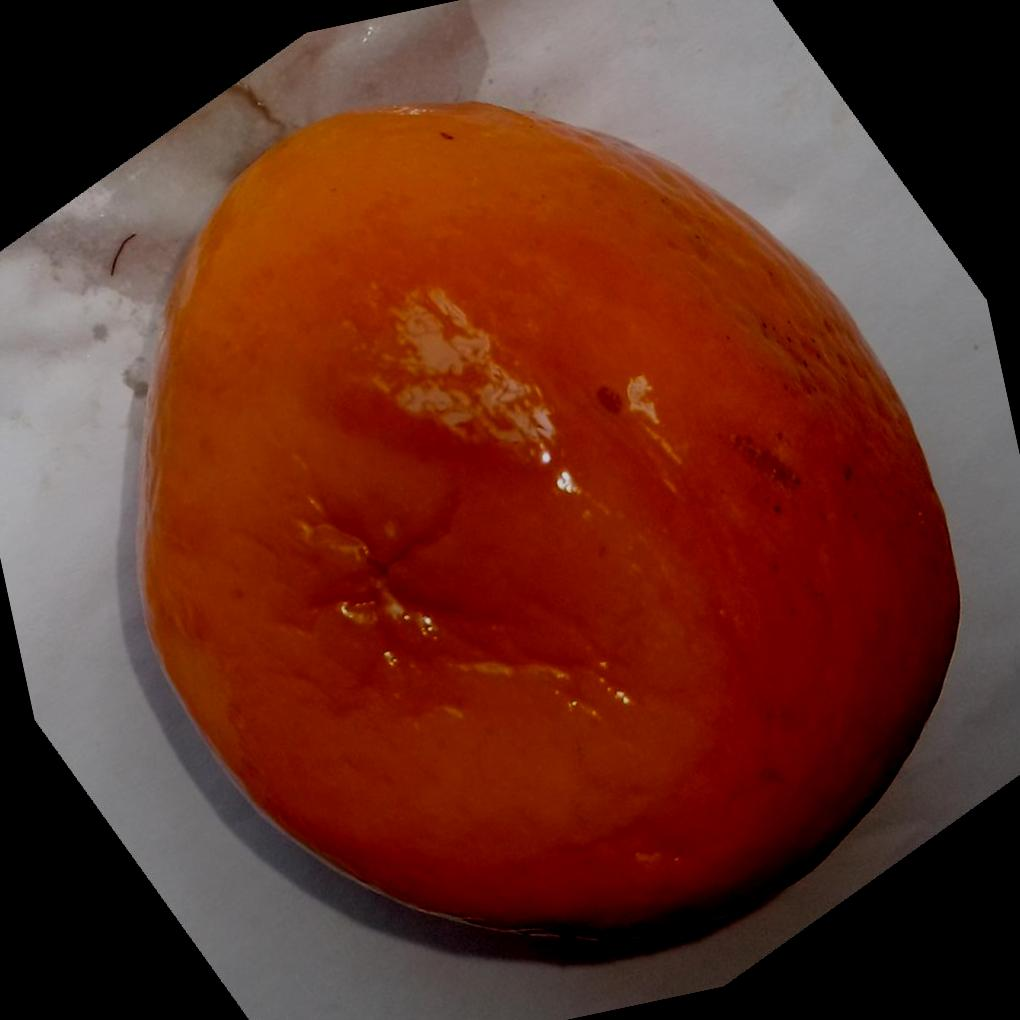FreshOrange: (128, 98, 959, 946)
